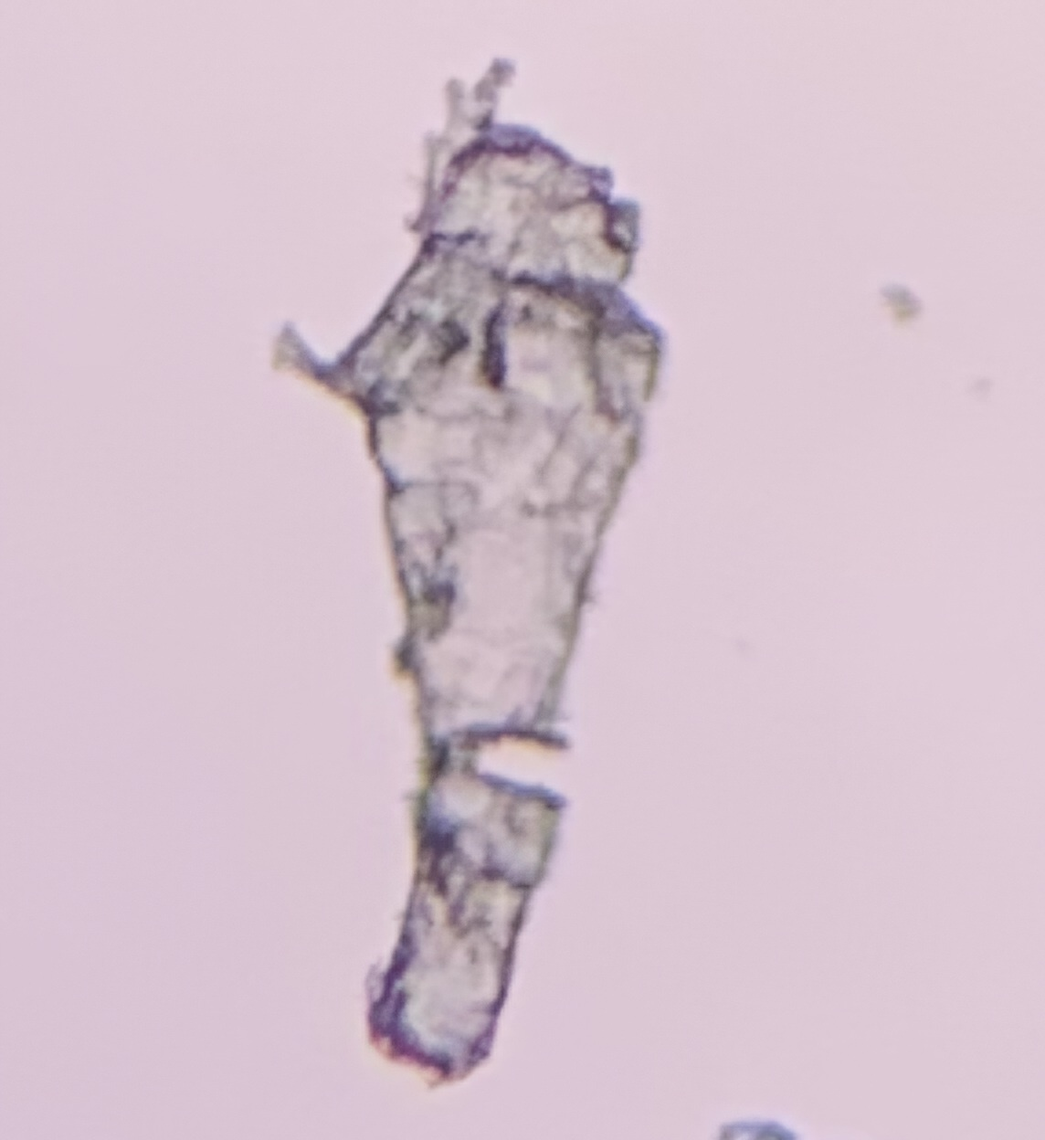microplastic: (275, 57, 664, 1090), (714, 1118, 797, 1140)
